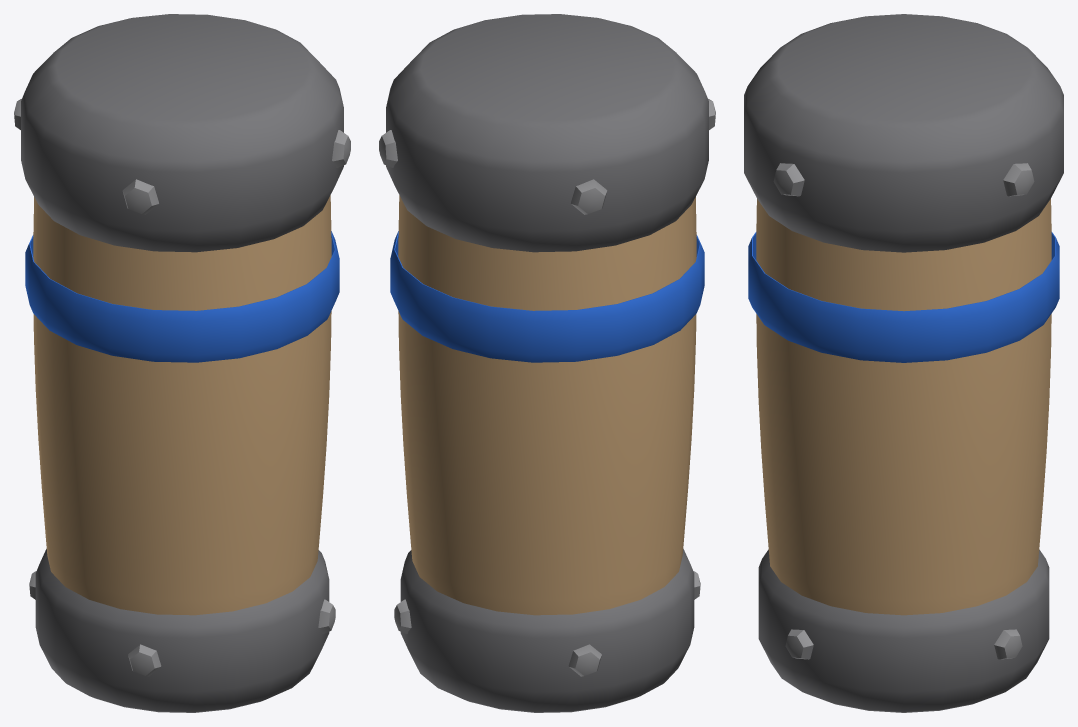
Rendered from Kit_Limb_Basic_LA.glb.
3 renders of one model, left to right at view 1: azimuth 30°, elevation 25°; view 2: azimuth 150°, elevation 25°; view 3: azimuth 270°, elevation 25°, orthographic.
Visible parts, largest first — view 1: Kit_Limb_Basic_LA; view 2: Kit_Limb_Basic_LA; view 3: Kit_Limb_Basic_LA.
Boxes of the visible parts, bbox=[...] form: Kit_Limb_Basic_LA: bbox=[14, 14, 350, 712]; Kit_Limb_Basic_LA: bbox=[379, 14, 715, 712]; Kit_Limb_Basic_LA: bbox=[744, 14, 1063, 712].
Size of the model in its own units: 0.1144 by 0.2312 by 0.1132.
